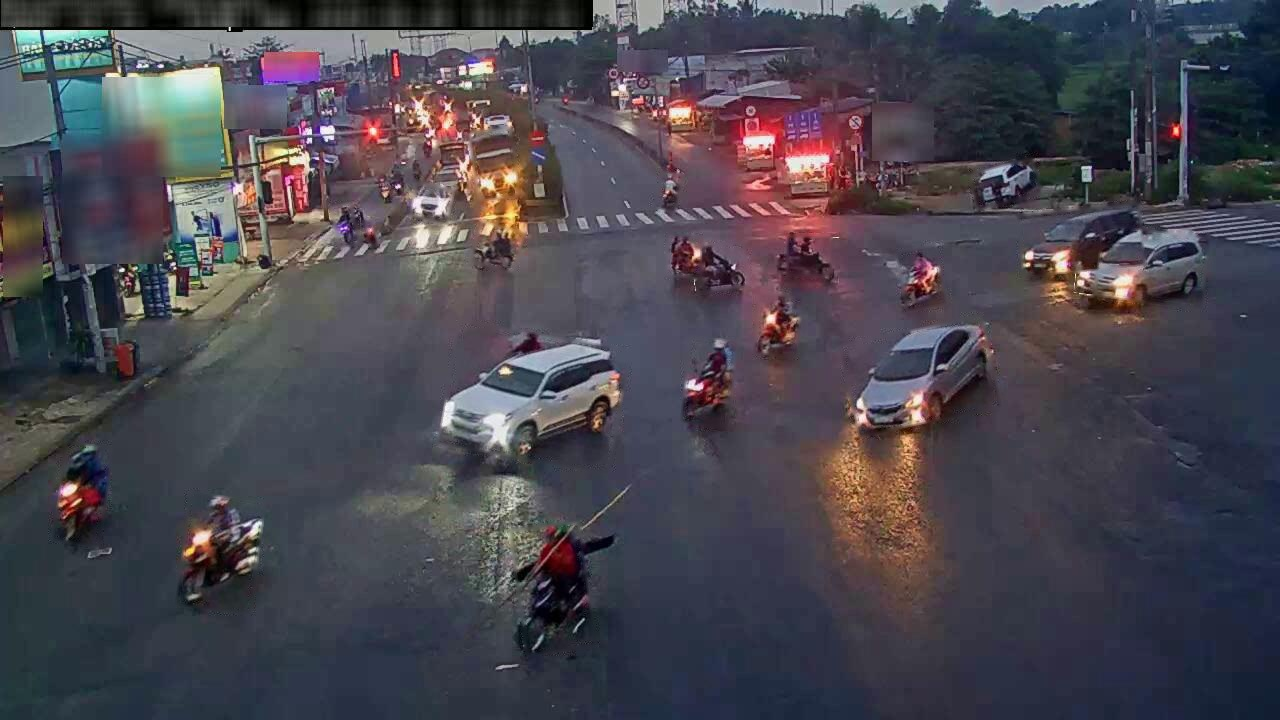Car: (440, 340, 621, 461), (850, 325, 993, 429), (1075, 228, 1205, 306), (1022, 210, 1138, 276), (412, 182, 455, 220), (431, 167, 464, 194), (484, 114, 513, 133)
Motorcycle: (512, 525, 614, 653), (473, 244, 513, 269), (662, 182, 678, 210)
Motorcyclist: (177, 495, 263, 603), (56, 444, 108, 540), (682, 339, 732, 419), (670, 237, 744, 289), (777, 233, 836, 283), (756, 295, 800, 356), (899, 253, 941, 306), (337, 205, 355, 245), (362, 221, 379, 251)
Traffic light: (390, 50, 401, 79)
Truck: (468, 130, 517, 199), (974, 162, 1037, 208)
